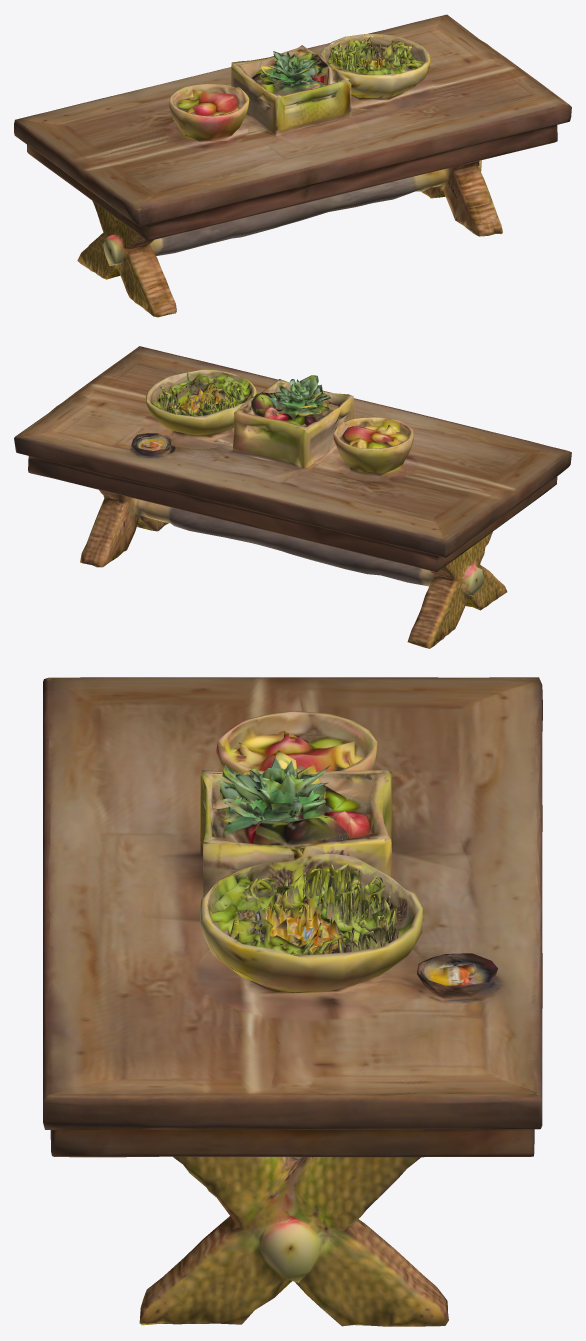
Rendered from table-1.glb.
3 views of the same model, one above another, from view 1: azimuth 30°, elevation 25°; view 2: azimuth 150°, elevation 25°; view 3: azimuth 270°, elevation 25° (orthographic). The views are drawn at different scales.
Bounding box in the file's own units: 1.99 × 0.8543 × 0.9944.
Materials: 1 (1 with a texture image).
